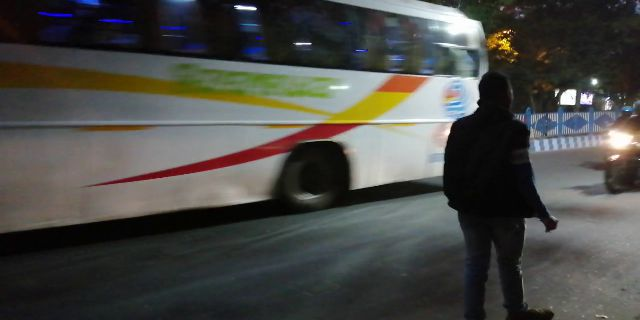Bus: (5, 2, 504, 207)
